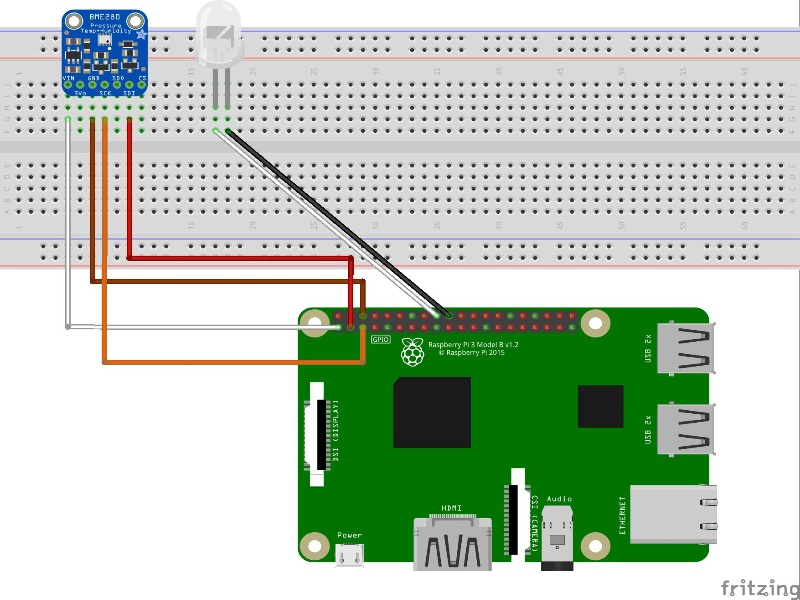raspberrypi: (284, 297, 721, 575)
